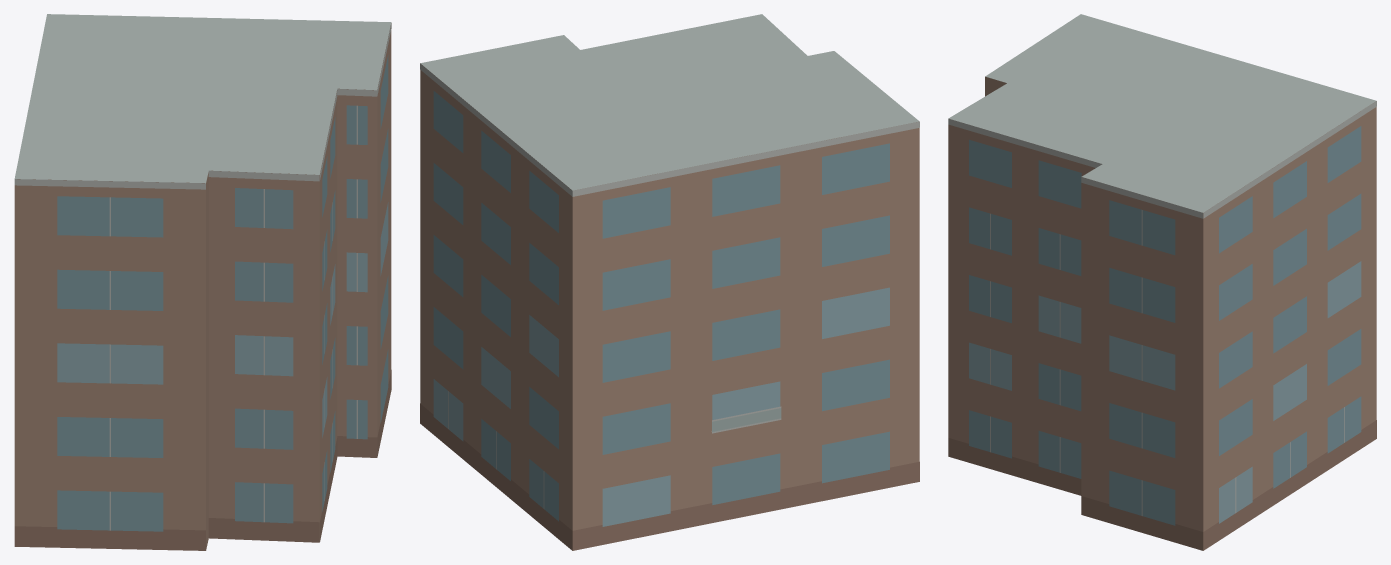
The model's file is survey-upis-32780093.glb.
3 renders of one model, left to right at view 1: azimuth 30°, elevation 25°; view 2: azimuth 150°, elevation 25°; view 3: azimuth 270°, elevation 25°, orthographic. The views are drawn at different scales.
Visible parts, largest first — view 1: survey-upis-32780093.tmp; view 2: survey-upis-32780093.tmp; view 3: survey-upis-32780093.tmp.
Part boxes in pixels (x1,y1,x2,y2): survey-upis-32780093.tmp: [14, 14, 391, 550]; survey-upis-32780093.tmp: [420, 14, 919, 550]; survey-upis-32780093.tmp: [948, 14, 1376, 550].
Size of the model in its own units: 17.56 by 13.91 by 15.99.
